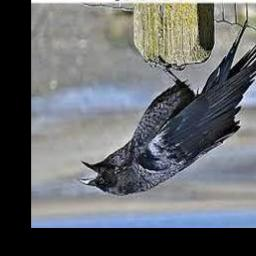Crow: (77, 20, 256, 197)
